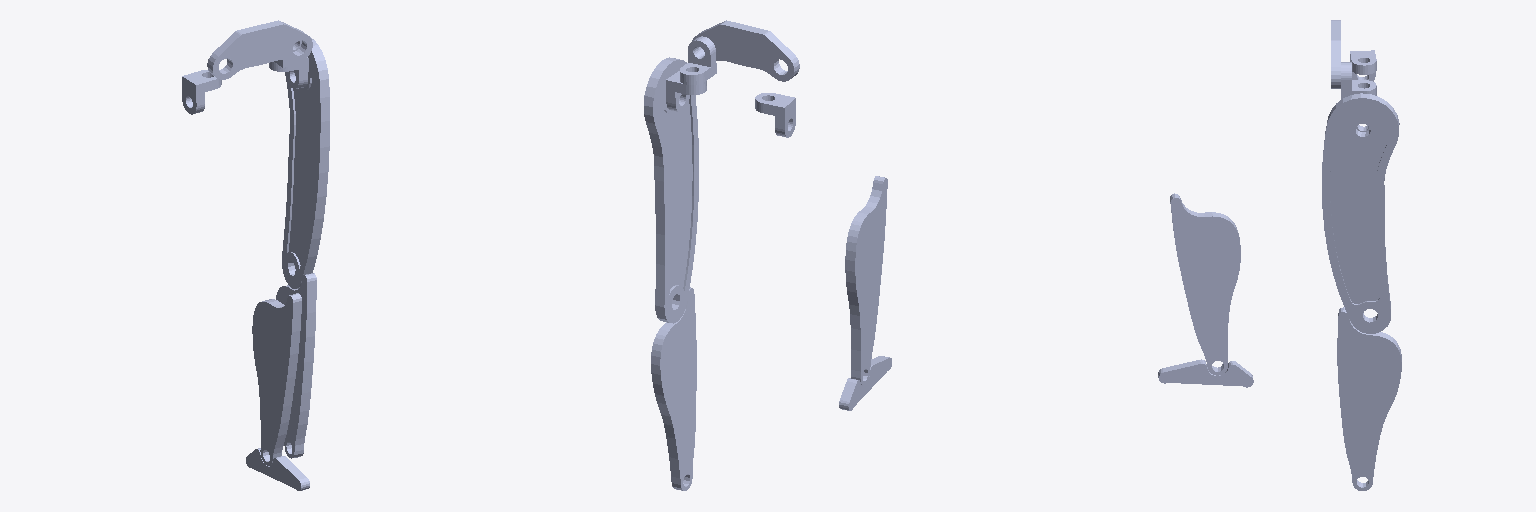
The robot description file, URDF, robot "bassie.SLDASM":
<?xml version="1.0" encoding="utf-8"?>
<!-- This URDF was automatically created by SolidWorks to URDF Exporter! Originally created by [author] ([email redacted]) 
     Commit Version: 1.6.0-4-g7f85cfe  Build Version: 1.6.7995.38578
     For more information, please see http://wiki.ros.org/sw_urdf_exporter -->
<robot
  name="bassie.SLDASM">
  <link
    name="pelvis">
    <inertial>
      <origin
        xyz="-8.71510553850297E-19 -0.005 -0.00141371227400464"
        rpy="0 0 0" />
      <mass
        value="0.0303722995490468" />
      <inertia
        ixx="3.74394993207704E-06"
        ixy="5.11178856466256E-23"
        ixz="7.80799469685778E-22"
        iyy="2.49329673185659E-05"
        iyz="-1.54583766458099E-22"
        izz="2.1695222378973E-05" />
    </inertial>
    <visual>
      <origin
        xyz="0 0 0"
        rpy="0 0 0" />
      <geometry>
        <mesh
          filename="meshes/pelvis.STL" />
      </geometry>
      <material
        name="">
        <color
          rgba="0.792156862745098 0.819607843137255 0.933333333333333 1" />
      </material>
    </visual>
    <collision>
      <origin
        xyz="0 0 0"
        rpy="0 0 0" />
      <geometry>
        <mesh
          filename="meshes/pelvis.STL" />
      </geometry>
    </collision>
  </link>
  <link
    name="right_hip_a">
    <inertial>
      <origin
        xyz="0 -0.0110100876761759 -0.0109899123238241"
        rpy="0 0 0" />
      <mass
        value="0.0104219467105846" />
      <inertia
        ixx="1.70463571115033E-06"
        ixy="-3.68095372586097E-23"
        ixz="-2.34505703658783E-22"
        iyy="1.38650049834199E-06"
        iyz="-3.73929543448507E-07"
        izz="1.386500498342E-06" />
    </inertial>
    <visual>
      <origin
        xyz="0 0 0"
        rpy="0 0 0" />
      <geometry>
        <mesh
          filename="meshes/right_hip_a.STL" />
      </geometry>
      <material
        name="">
        <color
          rgba="0.792156862745098 0.819607843137255 0.933333333333333 1" />
      </material>
    </visual>
    <collision>
      <origin
        xyz="0 0 0"
        rpy="0 0 0" />
      <geometry>
        <mesh
          filename="meshes/right_hip_a.STL" />
      </geometry>
    </collision>
  </link>
  <joint
    name="right_hip_roll"
    type="revolute">
    <origin
      xyz="-0.0398271658880066 0 -0.00930710361371741"
      rpy="1.5707963267949 -0.00503265783860925 0" />
    <parent
      link="pelvis" />
    <child
      link="right_hip_a" />
    <axis
      xyz="0 0 1" />
    <limit
      lower="-1"
      upper="1"
      effort="100"
      velocity="100" />
  </joint>
  <link
    name="right_hip_b">
    <inertial>
      <origin
        xyz="6.93889390390723E-18 -0.0110100876761759 -0.010989051191167"
        rpy="0 0 0" />
      <mass
        value="0.0104219467105846" />
      <inertia
        ixx="1.70463571115033E-06"
        ixy="-1.45583787809333E-22"
        ixz="-9.53271488868967E-23"
        iyy="1.38650049834199E-06"
        iyz="-3.73929543448507E-07"
        izz="1.386500498342E-06" />
    </inertial>
    <visual>
      <origin
        xyz="0 0 0"
        rpy="0 0 0" />
      <geometry>
        <mesh
          filename="meshes/right_hip_b.STL" />
      </geometry>
      <material
        name="">
        <color
          rgba="0.792156862745098 0.819607843137255 0.933333333333333 1" />
      </material>
    </visual>
    <collision>
      <origin
        xyz="0 0 0"
        rpy="0 0 0" />
      <geometry>
        <mesh
          filename="meshes/right_hip_b.STL" />
      </geometry>
    </collision>
  </link>
  <joint
    name="right_hip_pitch"
    type="revolute">
    <origin
      xyz="0 -0.0220008611326573 -0.0219999999999999"
      rpy="-1.57079632679503 -1.49330843492653 0" />
    <parent
      link="right_hip_a" />
    <child
      link="right_hip_b" />
    <axis
      xyz="0 0 1" />
    <limit
      lower="-1"
      upper="1"
      effort="100"
      velocity="100" />
  </joint>
  <link
    name="right_upper_leg">
    <inertial>
      <origin
        xyz="-0.00592586158781309 -0.0525800795674847 0.0617044572537044"
        rpy="0 0 0" />
      <mass
        value="0.107018899099017" />
      <inertia
        ixx="0.00059179926724669"
        ixy="1.59874782272895E-08"
        ixz="-1.27083232085629E-08"
        iyy="0.000308153017538767"
        iyz="0.000258492128476062"
        izz="0.000284954745396214" />
    </inertial>
    <visual>
      <origin
        xyz="0 0 0"
        rpy="0 0 0" />
      <geometry>
        <mesh
          filename="meshes/right_upper_leg.STL" />
      </geometry>
      <material
        name="">
        <color
          rgba="0.792156862745098 0.819607843137255 0.933333333333333 1" />
      </material>
    </visual>
    <collision>
      <origin
        xyz="0 0 0"
        rpy="0 0 0" />
      <geometry>
        <mesh
          filename="meshes/right_upper_leg.STL" />
      </geometry>
    </collision>
  </link>
  <joint
    name="right_hip_yaw"
    type="revolute">
    <origin
      xyz="0 -0.0210679578739459 -0.0219991388673428"
      rpy="1.47617469063059 0 1.5707963267949" />
    <parent
      link="right_hip_b" />
    <child
      link="right_upper_leg" />
    <axis
      xyz="1 0 0" />
    <limit
      lower="-2"
      upper="2"
      effort="100"
      velocity="100" />
  </joint>
  <link
    name="right_lower_leg">
    <inertial>
      <origin
        xyz="-0.00593203877881651 -0.084602786670183 0.00168892856089956"
        rpy="0 0 0" />
      <mass
        value="0.0744483044847864" />
      <inertia
        ixx="0.000164660010918706"
        ixy="-4.61372645241211E-12"
        ixz="1.49207452474512E-11"
        iyy="1.77016873193822E-05"
        iyz="-3.96688103484342E-06"
        izz="0.000148199128403157" />
    </inertial>
    <visual>
      <origin
        xyz="0 0 0"
        rpy="0 0 0" />
      <geometry>
        <mesh
          filename="meshes/right_lower_leg.STL" />
      </geometry>
      <material
        name="">
        <color
          rgba="0.792156862745098 0.819607843137255 0.933333333333333 1" />
      </material>
    </visual>
    <collision>
      <origin
        xyz="0 0 0"
        rpy="0 0 0" />
      <geometry>
        <mesh
          filename="meshes/right_lower_leg.STL" />
      </geometry>
    </collision>
  </link>
  <joint
    name="right_knee"
    type="revolute">
    <origin
      xyz="0 -0.14142135623731 0.141421356237308"
      rpy="0.177493987253612 0 0" />
    <parent
      link="right_upper_leg" />
    <child
      link="right_lower_leg" />
    <axis
      xyz="1 0 0" />
    <limit
      lower="-2"
      upper="2"
      effort="100"
      velocity="100" />
  </joint>
  <link
    name="right_foot">
    <inertial>
      <origin
        xyz="-0.00593204212605349 -0.0117377956787896 0.00934592910539234"
        rpy="0 0 0" />
      <mass
        value="0.0141163998019807" />
      <inertia
        ixx="9.24279911044944E-06"
        ixy="-1.02570395956575E-22"
        ixz="-7.53396101913298E-21"
        iyy="8.95233915878566E-06"
        iyz="1.01243243186786E-07"
        izz="5.25733281696791E-07" />
    </inertial>
    <visual>
      <origin
        xyz="0 0 0"
        rpy="0 0 0" />
      <geometry>
        <mesh
          filename="meshes/right_foot.STL" />
      </geometry>
      <material
        name="">
        <color
          rgba="0.792156862745098 0.819607843137255 0.933333333333333 1" />
      </material>
    </visual>
    <collision>
      <origin
        xyz="0 0 0"
        rpy="0 0 0" />
      <geometry>
        <mesh
          filename="meshes/right_foot.STL" />
      </geometry>
    </collision>
  </link>
  <joint
    name="right_ankle"
    type="revolute">
    <origin
      xyz="0 -0.18 0"
      rpy="-0.17083 0 0" />
    <parent
      link="right_lower_leg" />
    <child
      link="right_foot" />
    <axis
      xyz="1 0 0" />
    <limit
      lower="-2"
      upper="2"
      effort="100"
      velocity="100" />
  </joint>
  <link
    name="left_hip_a">
    <inertial>
      <origin
        xyz="-6.93889390390723E-17 -0.0110100876761757 -0.0109899123238245"
        rpy="0 0 0" />
      <mass
        value="0.0104219467105846" />
      <inertia
        ixx="1.70463571115033E-06"
        ixy="-2.90505831128623E-21"
        ixz="-2.52124650706163E-21"
        iyy="1.386500498342E-06"
        iyz="-3.73929543448508E-07"
        izz="1.386500498342E-06" />
    </inertial>
    <visual>
      <origin
        xyz="0 0 0"
        rpy="0 0 0" />
      <geometry>
        <mesh
          filename="meshes/left_hip_a.STL" />
      </geometry>
      <material
        name="">
        <color
          rgba="0.792156862745098 0.819607843137255 0.933333333333333 1" />
      </material>
    </visual>
    <collision>
      <origin
        xyz="0 0 0"
        rpy="0 0 0" />
      <geometry>
        <mesh
          filename="meshes/left_hip_a.STL" />
      </geometry>
    </collision>
  </link>
  <joint
    name="left_hip_roll"
    type="revolute">
    <origin
      xyz="0.0398271658880066 0 -0.0093071036137174"
      rpy="1.5707963267949 0.0363921544175496 0" />
    <parent
      link="pelvis" />
    <child
      link="left_hip_a" />
    <axis
      xyz="0 0 1" />
    <limit
      lower="-1"
      upper="1"
      effort="100"
      velocity="100" />
  </joint>
  <link
    name="left_hip_b">
    <inertial>
      <origin
        xyz="4.5102810375397E-17 -0.0110100876761759 -0.012256176562566"
        rpy="0 0 0" />
      <mass
        value="0.0104219467105846" />
      <inertia
        ixx="1.70463571115033E-06"
        ixy="-2.94476298068878E-22"
        ixz="-4.40212329912787E-22"
        iyy="1.386500498342E-06"
        iyz="-3.73929543448508E-07"
        izz="1.386500498342E-06" />
    </inertial>
    <visual>
      <origin
        xyz="0 0 0"
        rpy="0 0 0" />
      <geometry>
        <mesh
          filename="meshes/left_hip_b.STL" />
      </geometry>
      <material
        name="">
        <color
          rgba="0.792156862745098 0.819607843137255 0.933333333333333 1" />
      </material>
    </visual>
    <collision>
      <origin
        xyz="0 0 0"
        rpy="0 0 0" />
      <geometry>
        <mesh
          filename="meshes/left_hip_b.STL" />
      </geometry>
    </collision>
  </link>
  <joint
    name="left_hip_pitch"
    type="revolute">
    <origin
      xyz="0 -0.020733735761258 -0.0220000000000004"
      rpy="-1.57079632679482 1.53550175224418 0" />
    <parent
      link="left_hip_a" />
    <child
      link="left_hip_b" />
    <axis
      xyz="0 0 1" />
    <limit
      lower="-1"
      upper="1"
      effort="100"
      velocity="100" />
  </joint>
  <link
    name="left_upper_leg">
    <inertial>
      <origin
        xyz="0.00992113926367044 -0.052576667884697 0.0616946676041554"
        rpy="0 0 0" />
      <mass
        value="0.107042315965997" />
      <inertia
        ixx="0.000591805368935049"
        ixy="1.62243521030409E-08"
        ixz="-1.28844984492373E-08"
        iyy="0.000308162853350037"
        iyz="0.000258499935393855"
        izz="0.000284951019517356" />
    </inertial>
    <visual>
      <origin
        xyz="0 0 0"
        rpy="0 0 0" />
      <geometry>
        <mesh
          filename="meshes/left_upper_leg.STL" />
      </geometry>
      <material
        name="">
        <color
          rgba="0.792156862745098 0.819607843137255 0.933333333333333 1" />
      </material>
    </visual>
    <collision>
      <origin
        xyz="0 0 0"
        rpy="0 0 0" />
      <geometry>
        <mesh
          filename="meshes/left_upper_leg.STL" />
      </geometry>
    </collision>
  </link>
  <joint
    name="left_hip_yaw"
    type="revolute">
    <origin
      xyz="0 -0.0170842012602752 -0.0232662642387418"
      rpy="2.39179817705173 0 -1.5707963267949" />
    <parent
      link="left_hip_b" />
    <child
      link="left_upper_leg" />
    <axis
      xyz="1 0 0" />
    <limit
      lower="-2"
      upper="2"
      effort="100"
      velocity="100" />
  </joint>
  <link
    name="left_lower_leg">
    <inertial>
      <origin
        xyz="0.00991580198399055 -0.0846028137555248 0.00168890478392084"
        rpy="0 0 0" />
      <mass
        value="0.0744483650191621" />
      <inertia
        ixx="0.000164651177342366"
        ixy="-1.45541977598533E-11"
        ixz="1.67295198779219E-11"
        iyy="1.77024289130364E-05"
        iyz="-3.96427641840745E-06"
        izz="0.000148189551457772" />
    </inertial>
    <visual>
      <origin
        xyz="0 0 0"
        rpy="0 0 0" />
      <geometry>
        <mesh
          filename="meshes/left_lower_leg.STL" />
      </geometry>
      <material
        name="">
        <color
          rgba="0.792156862745098 0.819607843137255 0.933333333333333 1" />
      </material>
    </visual>
    <collision>
      <origin
        xyz="0 0 0"
        rpy="0 0 0" />
      <geometry>
        <mesh
          filename="meshes/left_lower_leg.STL" />
      </geometry>
    </collision>
  </link>
  <joint
    name="left_knee"
    type="revolute">
    <origin
      xyz="0 -0.14142 0.14142"
      rpy="-0.86226 0 0" />
    <parent
      link="left_upper_leg" />
    <child
      link="left_lower_leg" />
    <axis
      xyz="1 0 0" />
    <limit
      lower="-2"
      upper="2"
      effort="100"
      velocity="100" />
  </joint>
  <link
    name="left_foot">
    <inertial>
      <origin
        xyz="0.00791285680589386 -0.0117377956787891 0.00934592910539232"
        rpy="0 0 0" />
      <mass
        value="0.0141163998019808" />
      <inertia
        ixx="9.24279911044945E-06"
        ixy="-6.28657265540301E-23"
        ixz="1.68248536593286E-21"
        iyy="8.95233915878567E-06"
        iyz="1.01243243186784E-07"
        izz="5.25733281696794E-07" />
    </inertial>
    <visual>
      <origin
        xyz="0 0 0"
        rpy="0 0 0" />
      <geometry>
        <mesh
          filename="meshes/left_foot.STL" />
      </geometry>
      <material
        name="">
        <color
          rgba="0.792156862745098 0.819607843137255 0.933333333333333 1" />
      </material>
    </visual>
    <collision>
      <origin
        xyz="0 0 0"
        rpy="0 0 0" />
      <geometry>
        <mesh
          filename="meshes/left_foot.STL" />
      </geometry>
    </collision>
  </link>
  <joint
    name="left_ankle"
    type="revolute">
    <origin
      xyz="0.0020029 -0.18 0"
      rpy="-0.074785 0 0" />
    <parent
      link="left_lower_leg" />
    <child
      link="left_foot" />
    <axis
      xyz="1 0 0" />
    <limit
      lower="-2"
      upper="2"
      effort="100"
      velocity="100" />
  </joint>
</robot>

--- Render facts (derived) ---
The picture shows the robot from 3 angles, left to right: view 1: azimuth 30°, elevation 25°; view 2: azimuth 150°, elevation 25°; view 3: azimuth 270°, elevation 25°; orthographic projection.
Model bassie.SLDASM with 11 links and 10 joints (10 revolute), rooted at pelvis, posed every joint at zero.
Links seen in each view (by area): view 1: left_upper_leg, right_lower_leg, pelvis, left_lower_leg, right_foot, right_hip_b, left_hip_b; view 2: left_upper_leg, left_lower_leg, right_lower_leg, pelvis, left_hip_a, right_hip_b, right_foot, left_hip_b; view 3: left_upper_leg, right_lower_leg, left_lower_leg, right_foot, left_hip_a, right_hip_b, pelvis.
Boxes of the visible links, x1,y1,x2,y2 form: left_upper_leg: (282,37,329,288); right_lower_leg: (252,293,301,465); pelvis: (207,20,312,79); left_lower_leg: (276,273,316,458); right_foot: (246,448,309,490); right_hip_b: (182,70,221,114); left_hip_b: (269,57,308,88); left_upper_leg: (644,57,698,323); left_lower_leg: (651,287,696,490); right_lower_leg: (845,176,887,385); pelvis: (692,20,799,81); left_hip_a: (680,36,716,84); right_hip_b: (755,93,795,137); right_foot: (839,356,891,410); left_hip_b: (666,71,706,112); left_upper_leg: (1322,93,1399,333); right_lower_leg: (1170,193,1240,375); left_lower_leg: (1337,307,1401,490); right_foot: (1158,359,1253,387); left_hip_a: (1341,62,1376,99); right_hip_b: (1350,50,1376,81); pelvis: (1331,20,1340,88).
Size in the robot's own frame: 0.1345 by 0.2347 by 0.4629 metres.
8 mesh visuals loaded from 11 distinct referenced files (8 binary STL); not drawn: 3 (reference not matched to a file when rendering).
